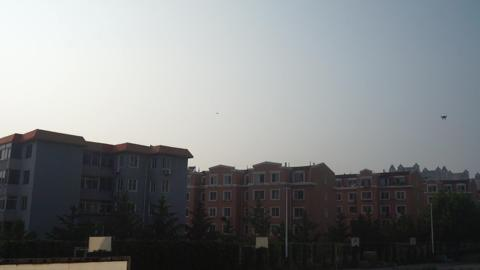UAV: (440, 115, 448, 120)
